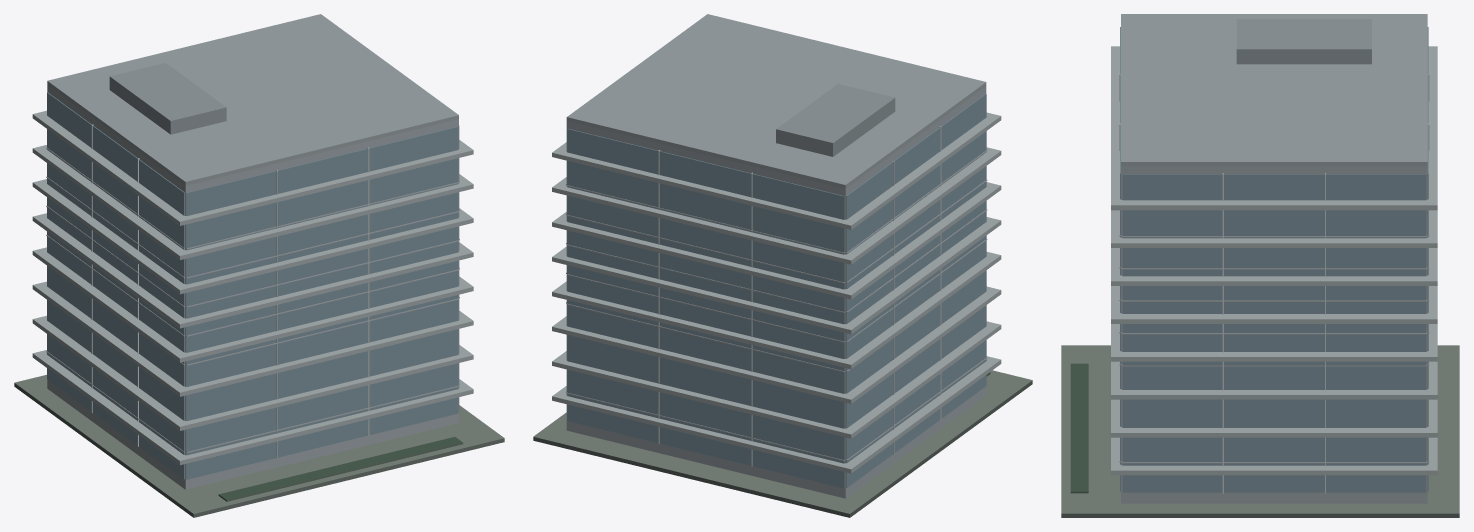
The model's file is residential-gallery.glb.
3 renders of one model, left to right at view 1: azimuth 30°, elevation 25°; view 2: azimuth 150°, elevation 25°; view 3: azimuth 270°, elevation 25°, orthographic. The views are drawn at different scales.
Visible parts, largest first — view 1: residential-gallery; view 2: residential-gallery; view 3: residential-gallery.
Boxes of the visible parts, x1=… form: residential-gallery: x1=14, y1=14, x2=504, y2=517; residential-gallery: x1=533, y1=14, x2=1032, y2=517; residential-gallery: x1=1061, y1=14, x2=1459, y2=517.
Bounding box in the file's own units: 1 × 1 × 1.
